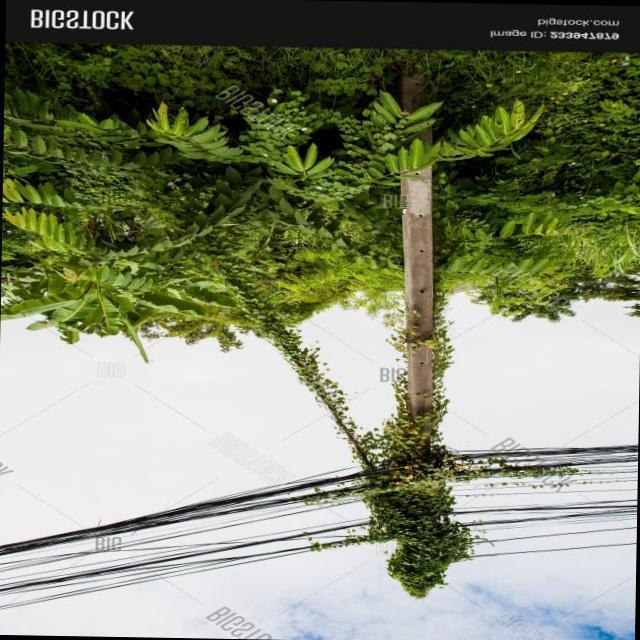critical vegetation: (220, 376, 595, 618)
